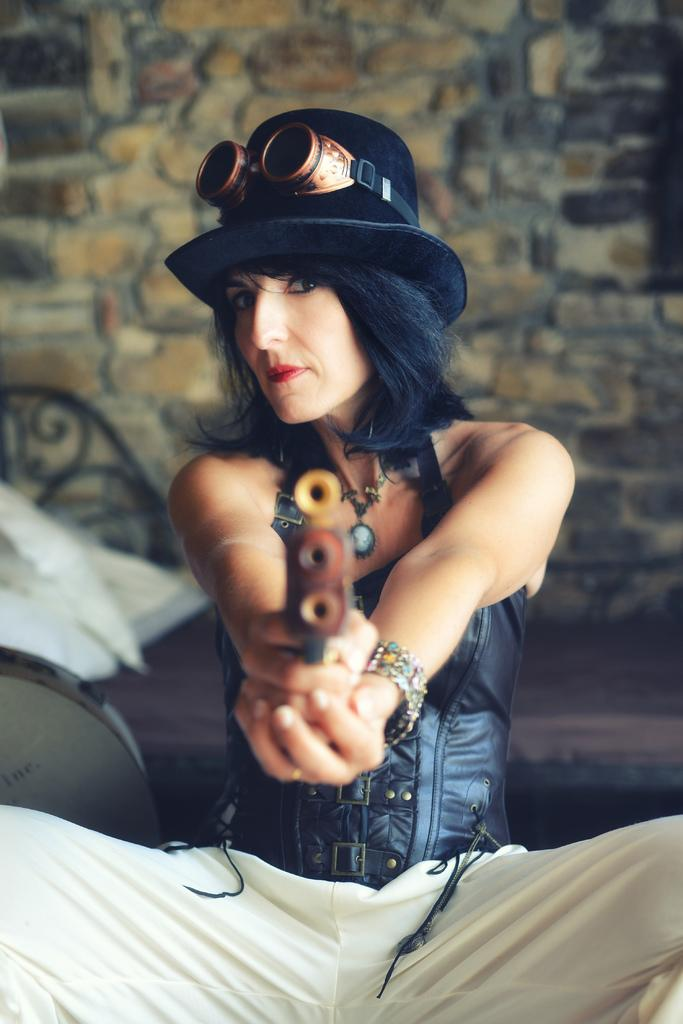Hat: (162, 108, 470, 334)
